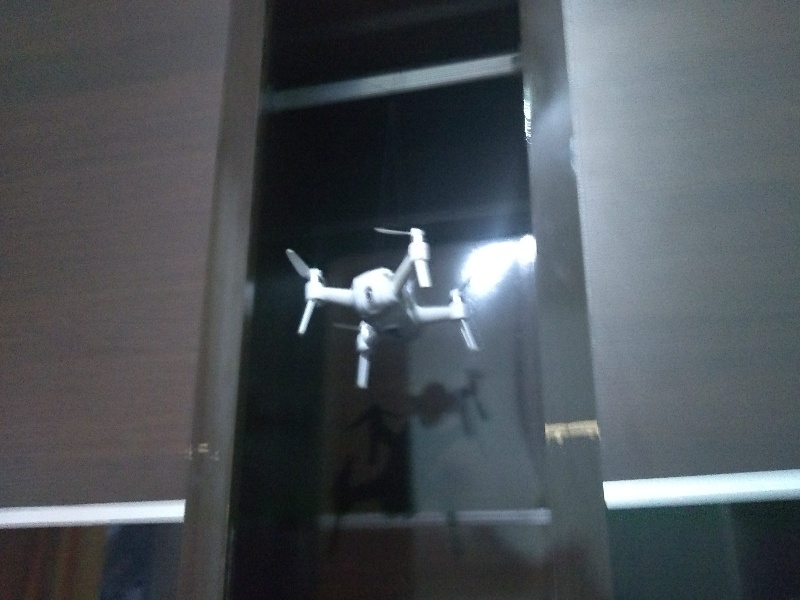drone: (277, 223, 496, 386)
